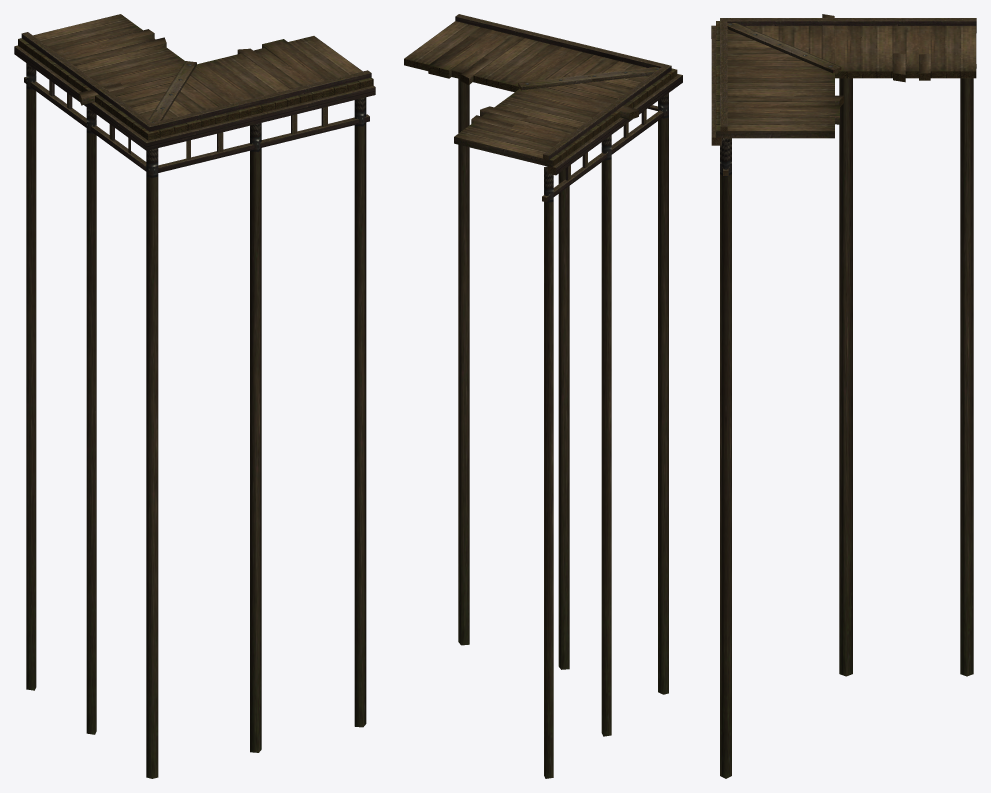
Rendered from yw_juxianzhuang_muqiao01.FBX.
3 renders of one model, left to right at view 1: azimuth 30°, elevation 25°; view 2: azimuth 150°, elevation 25°; view 3: azimuth 270°, elevation 25°, orthographic. The views are drawn at different scales.
Parts seen in each view (by area): view 1: yw_juxianzhuang_muqiao01; view 2: yw_juxianzhuang_muqiao01; view 3: yw_juxianzhuang_muqiao01.
Boxes of the visible parts, x1=… form: yw_juxianzhuang_muqiao01: x1=14, y1=14, x2=375, y2=778; yw_juxianzhuang_muqiao01: x1=404, y1=14, x2=682, y2=778; yw_juxianzhuang_muqiao01: x1=711, y1=14, x2=976, y2=778.
Bounding box in the file's own units: 1117 × 2913 × 1071.
1 material, 1 textured.
